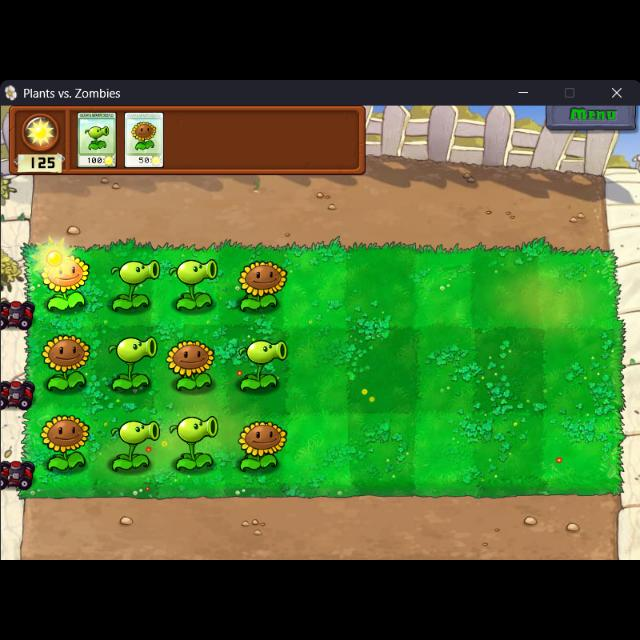Garden: (21, 241, 627, 499)
Menu Button: (546, 98, 638, 132)
Mower: (0, 296, 36, 334), (0, 456, 34, 492), (0, 378, 34, 408)
Peashooter: (75, 112, 119, 168)
Peashooter Seed: (106, 252, 162, 316), (236, 336, 294, 396), (108, 413, 160, 479), (169, 255, 223, 318), (106, 335, 160, 393), (169, 413, 219, 475)
Seed Panel: (6, 102, 370, 178)
Sun: (34, 232, 76, 284)
Sunflower: (126, 112, 162, 168)
Sunflower Seed: (36, 252, 96, 318), (34, 411, 90, 477), (161, 334, 219, 396), (40, 331, 96, 394), (233, 417, 289, 477), (238, 254, 290, 316)
